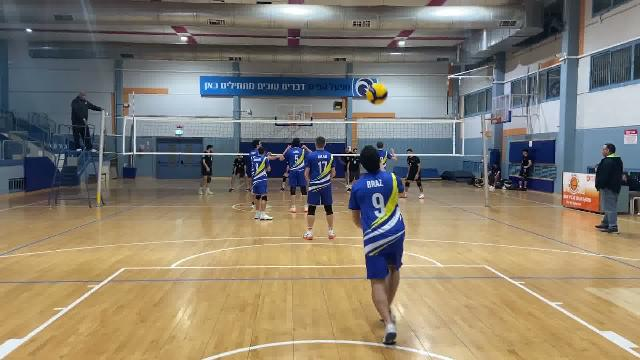ball: (363, 80, 388, 107)
